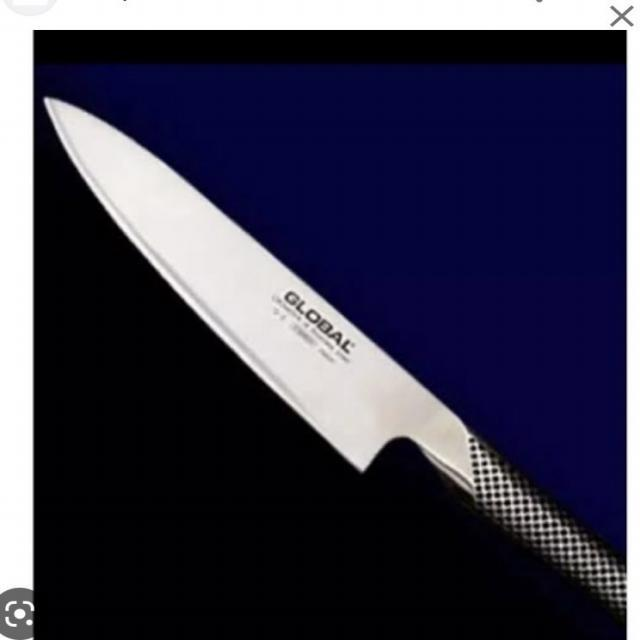Knife: (38, 83, 628, 627)
